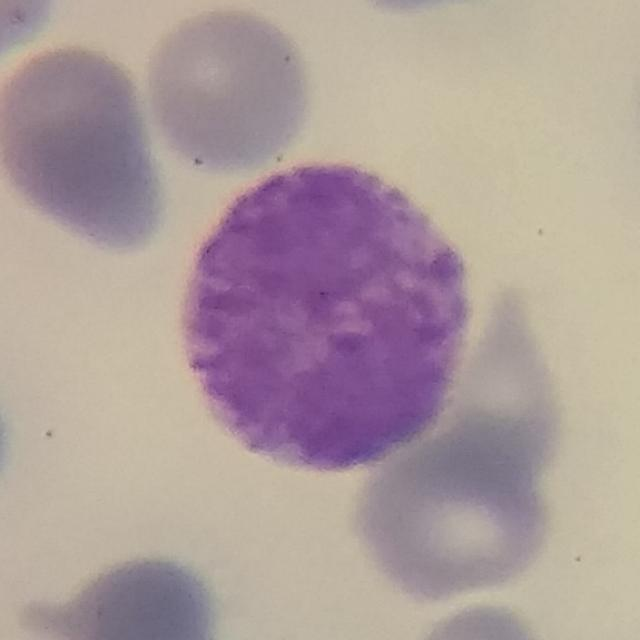baso: (179, 139, 480, 481)
